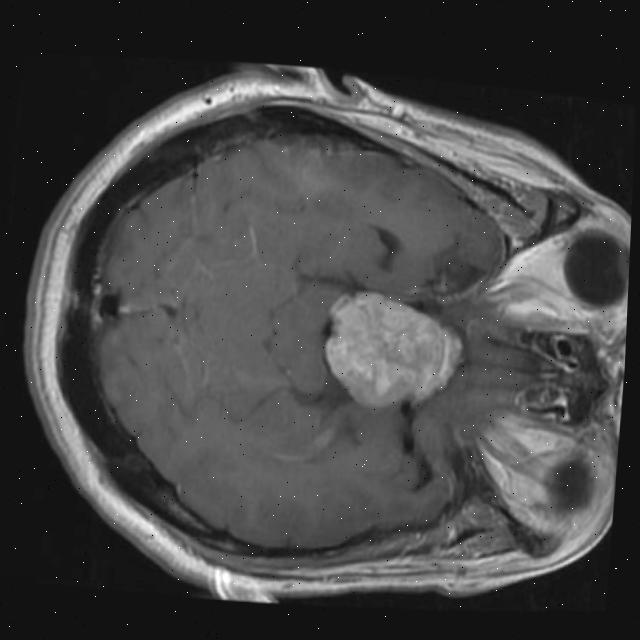Pituitary: (320, 287, 469, 413)
